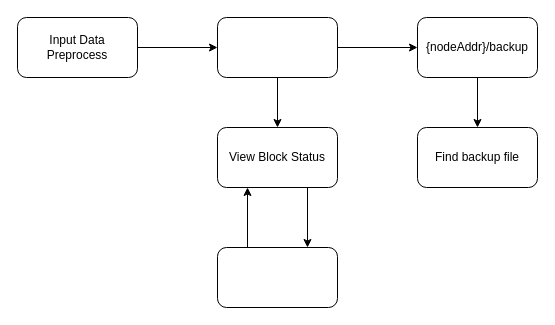
Image size: 555x325. Some labels were removed from this diagram. Here are the shapes that lost their labels. From the top down, the centre of each, then its label:
At point 277,47: "Create N nodes (npm batch)".
At point 277,277: "{nodeAddr}/Create".
